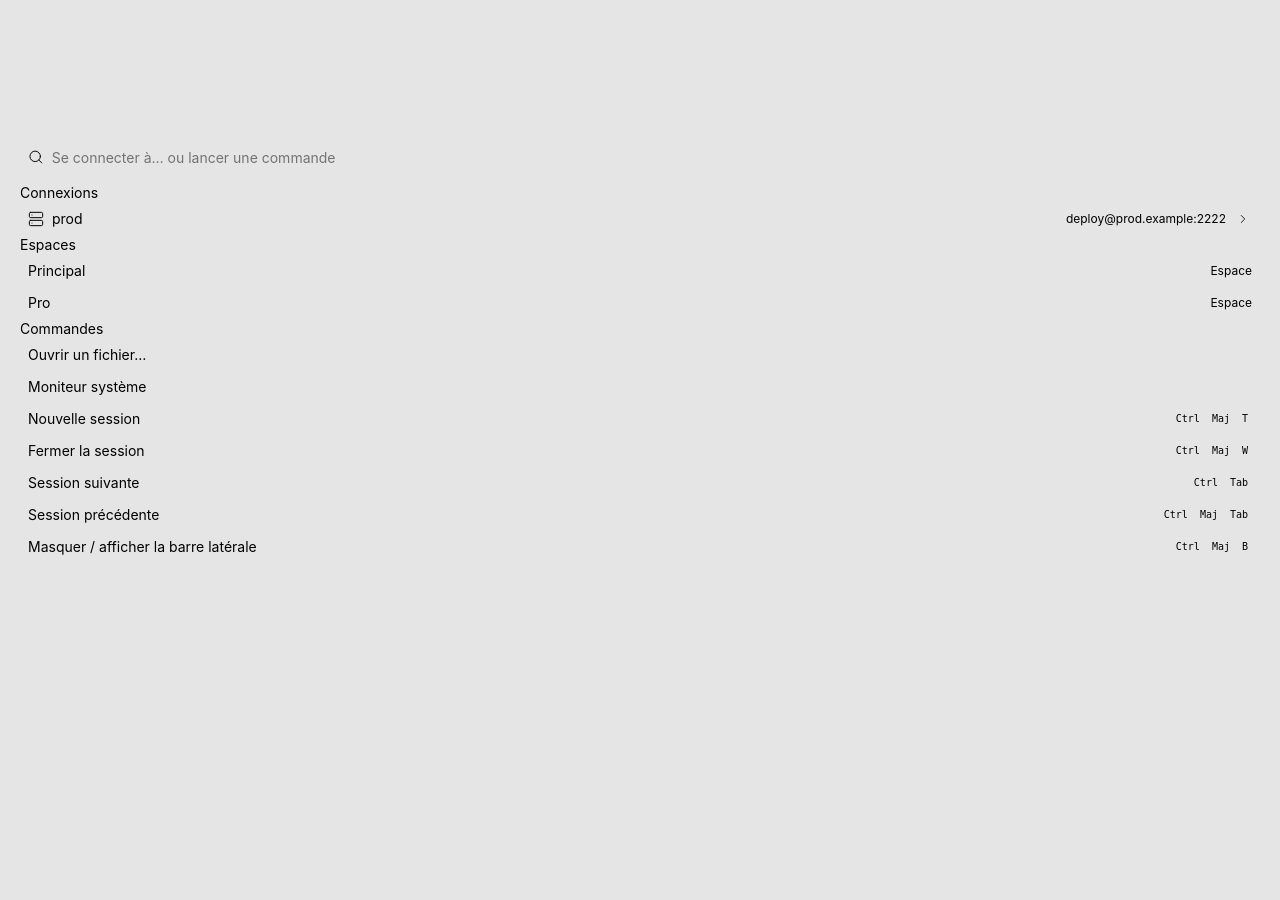
Test: arrow right opens a host's actions and arrow left goes back
Step 1. Type "prod" into the dropdown → (652, 157), box [52,135,1252,179]
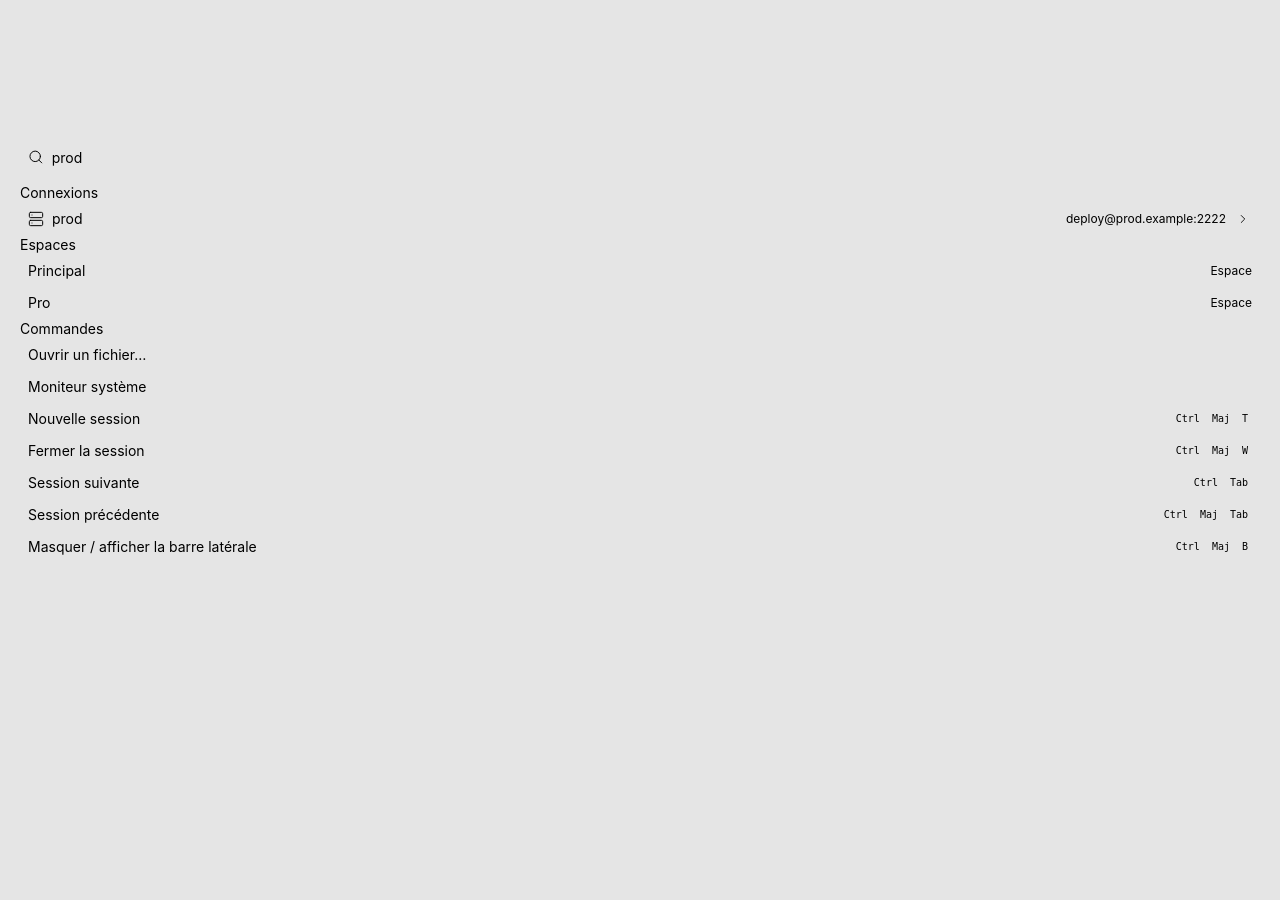
Step 2. Press Arrowright
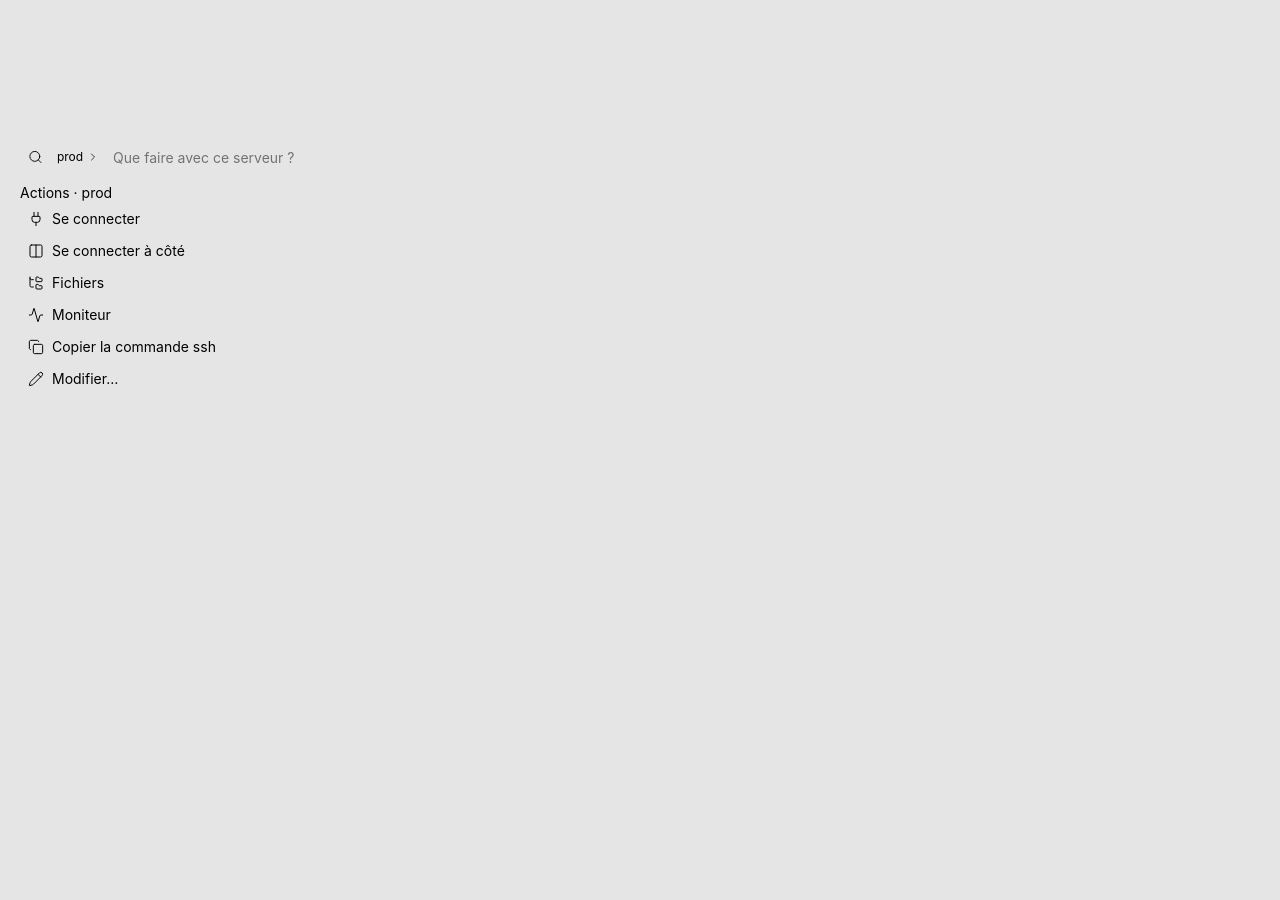
Now the dropdown is empty, box [113,135,1252,179]
Step 3. Press Arrowleft
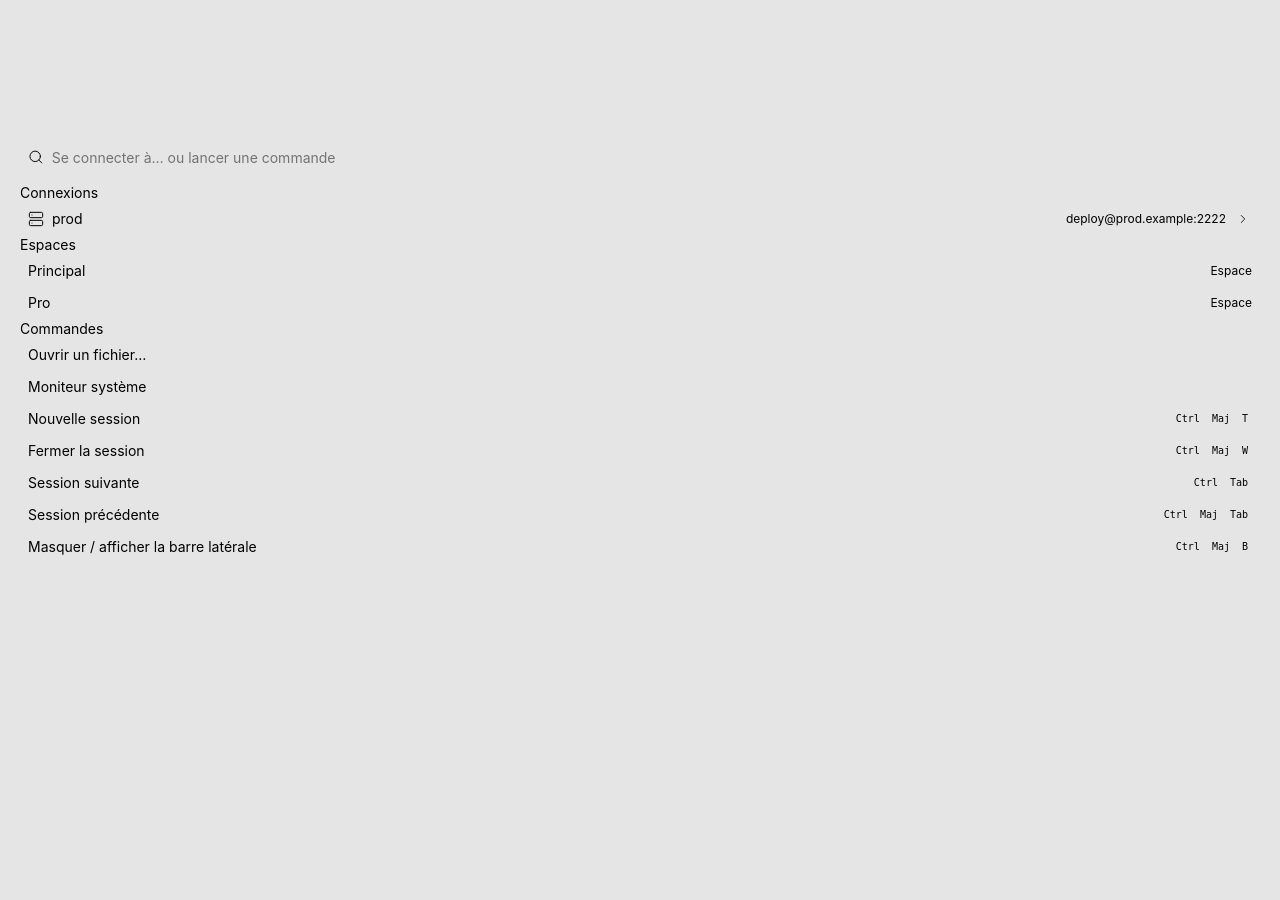
Now the option "prod deploy@prod.example:2222" is shown, box [28,210,1252,228]
